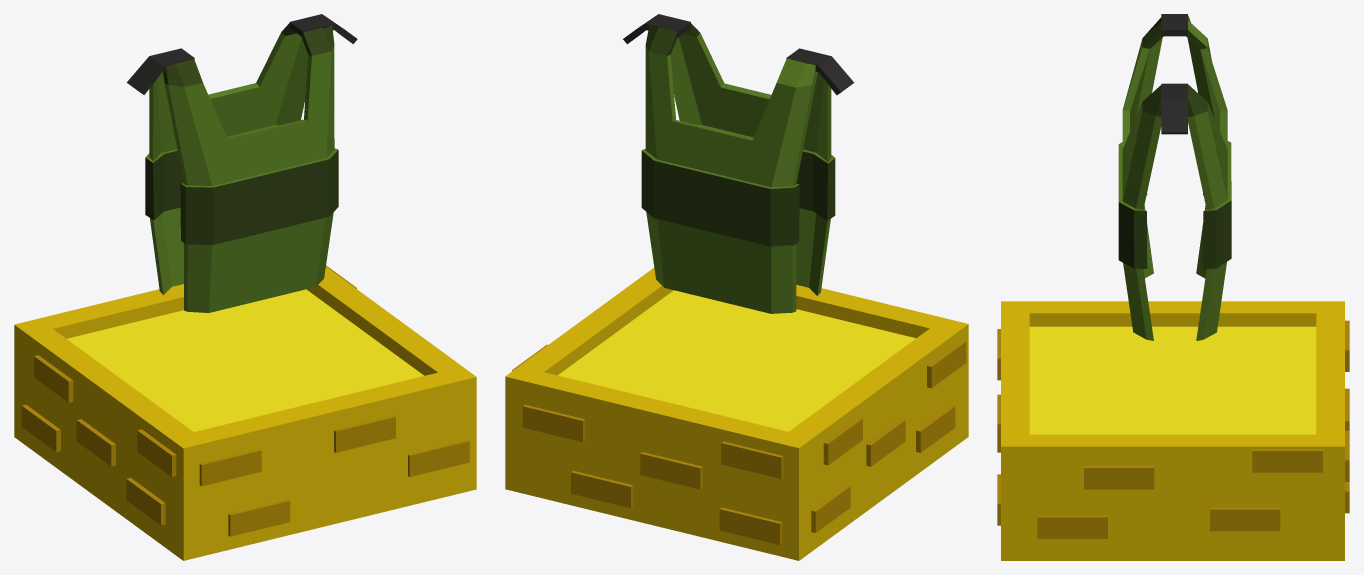
The model's file is bonus_vest.fbx.
3 views of the same model, side by side, from view 1: azimuth 30°, elevation 25°; view 2: azimuth 150°, elevation 25°; view 3: azimuth 270°, elevation 25° (orthographic).
Visible parts, largest first — view 1: Cube, Plane; view 2: Cube, Plane; view 3: Cube, Plane.
Boxes of the visible parts, left/top/right/bottom form: Cube: left=14, top=265, right=476, bottom=560; Plane: left=127, top=14, right=357, bottom=312; Cube: left=505, top=267, right=968, bottom=560; Plane: left=623, top=14, right=854, bottom=313; Cube: left=997, top=301, right=1349, bottom=560; Plane: left=1118, top=14, right=1231, bottom=340.
Size of the model in its own units: 206 by 276 by 205.
